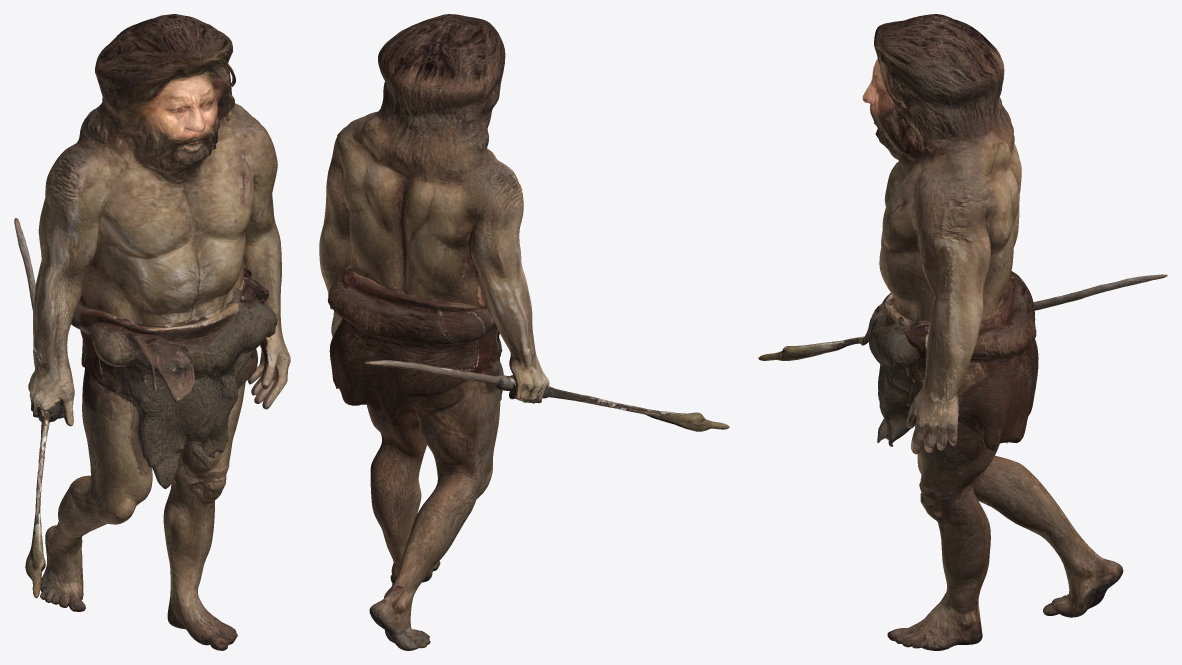
The model's file is neanderthal.fbx.
The picture shows the model from 3 angles, left to right: view 1: azimuth 30°, elevation 25°; view 2: azimuth 150°, elevation 25°; view 3: azimuth 270°, elevation 25°; orthographic projection. The views are drawn at different scales.
Visible parts, largest first — view 1: world; view 2: world; view 3: world.
Part boxes in pixels (left/top/right/bottom): world: left=14, top=14, right=290, bottom=650; world: left=319, top=14, right=729, bottom=650; world: left=758, top=14, right=1167, bottom=650.
Size of the model in its own units: 114 by 199 by 121.
1 material, 1 textured.
